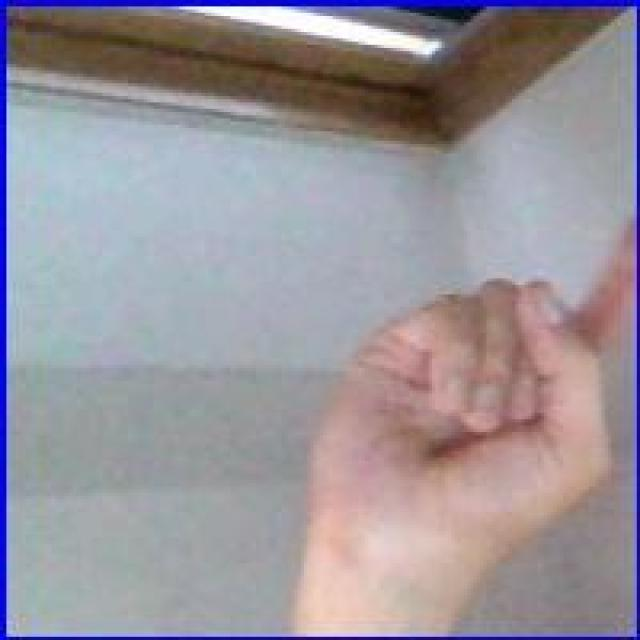Z: (308, 218, 630, 595)
